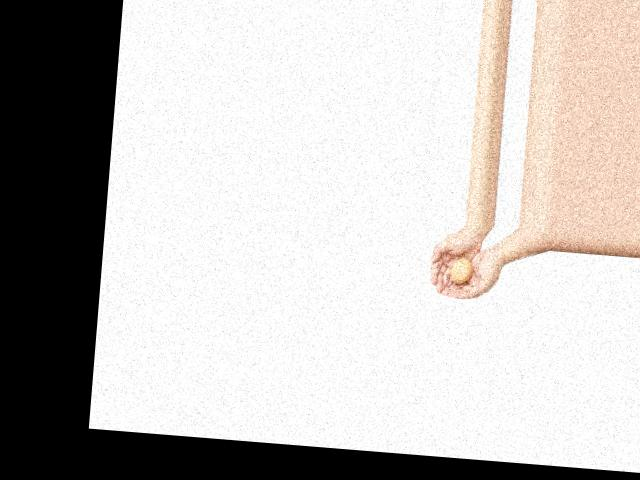egg: (450, 257, 474, 283)
